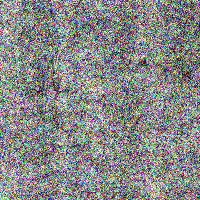crazing: (5, 20, 185, 80), (94, 39, 194, 141), (23, 78, 111, 140)
